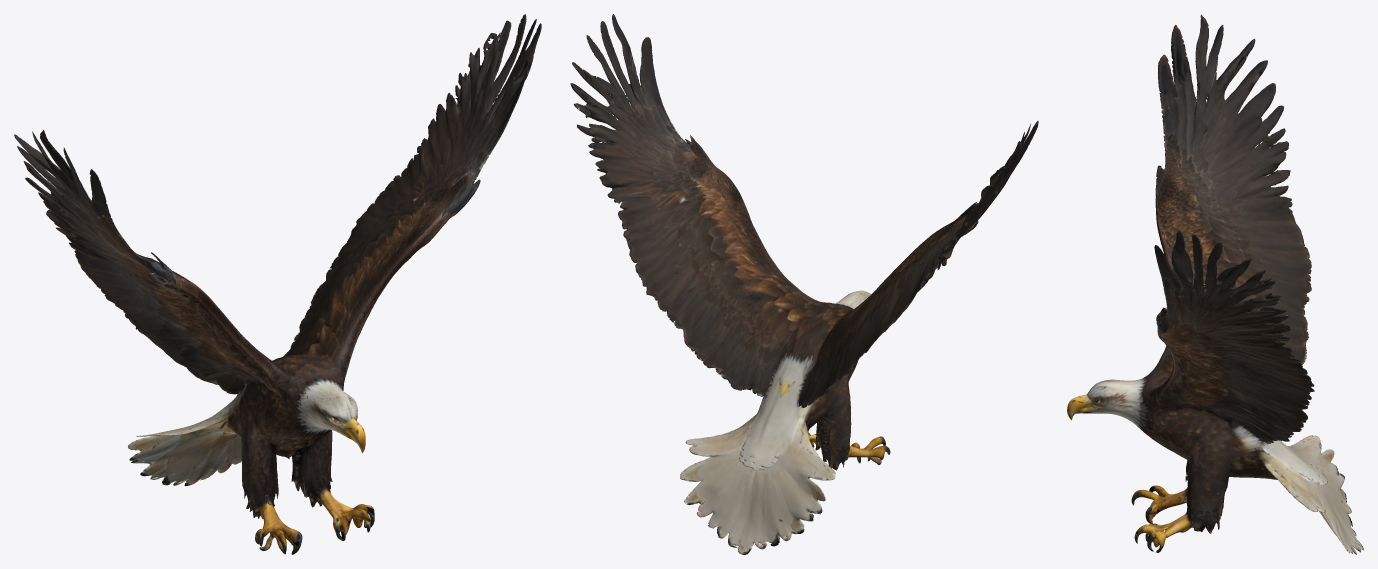
The model's file is an_eagle_flying_0805022526_texture.glb.
3 views of the same model, side by side, from view 1: azimuth 30°, elevation 25°; view 2: azimuth 150°, elevation 25°; view 3: azimuth 270°, elevation 25° (orthographic). The views are drawn at different scales.
Size of the model in its own units: 2 by 1.85 by 1.16.
1 material, 1 textured.
